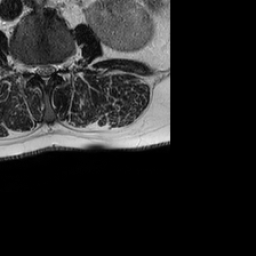CCS_normal: (41, 56, 49, 91)
LFS_normal: (57, 52, 66, 79)
LLS_normal: (49, 55, 57, 83)
RFS_normal: (25, 54, 33, 80)
RLS_normal: (33, 56, 41, 80)
